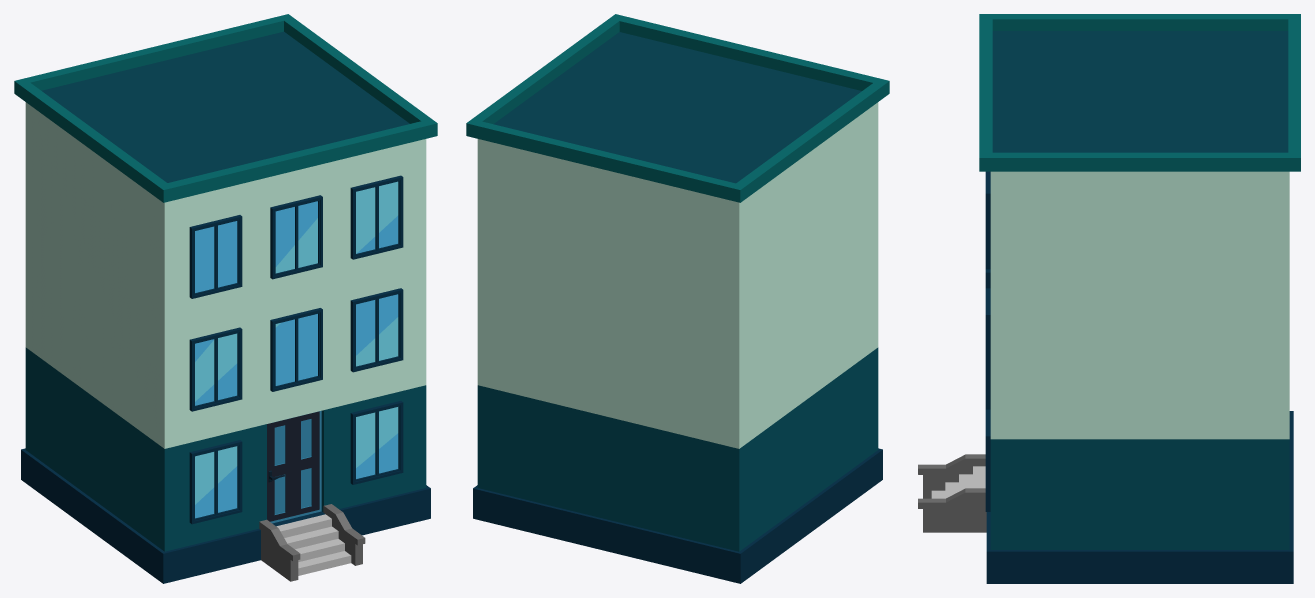
Rendered from Env_Motel_02.fbx.
The picture shows the model from 3 angles, left to right: view 1: azimuth 30°, elevation 25°; view 2: azimuth 150°, elevation 25°; view 3: azimuth 270°, elevation 25°; orthographic projection. The views are drawn at different scales.
Visible parts, largest first — view 1: Env_Motel_02; view 2: Env_Motel_02; view 3: Env_Motel_02.
Part boxes in pixels (x1,y1,x2,y2): Env_Motel_02: (14,14,437,583); Env_Motel_02: (466,14,889,583); Env_Motel_02: (918,14,1300,583).
Size of the model in its own units: 593 by 820 by 665.
